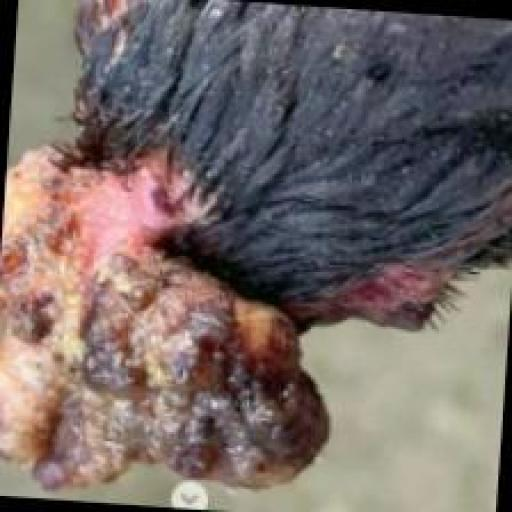disease: (0, 149, 349, 501)
